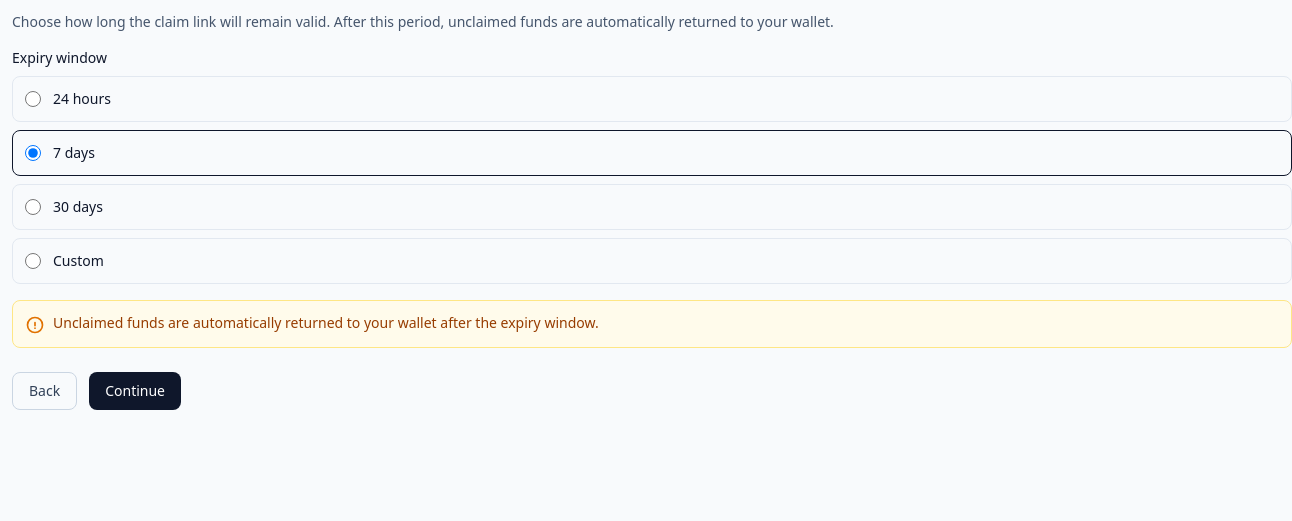
Test: ExpiryStep › shows custom days input when custom is selected
Click the radio button labelled "Custom" at (33, 261), box [25,253,41,269]
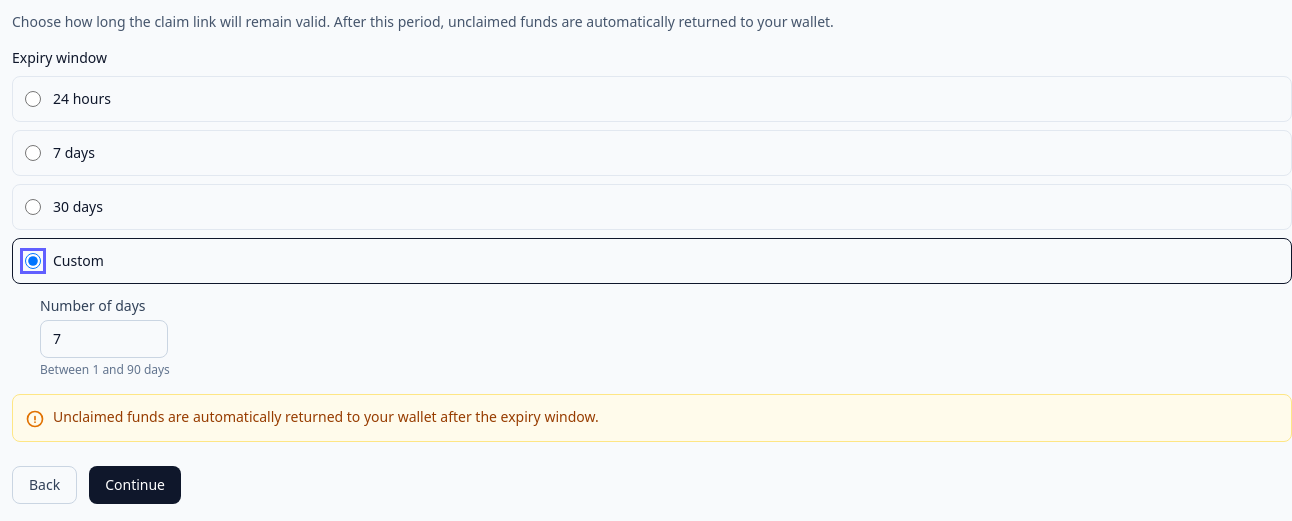
expect the number field labelled "Number of days" is shown: met, box [40,320,168,358]
